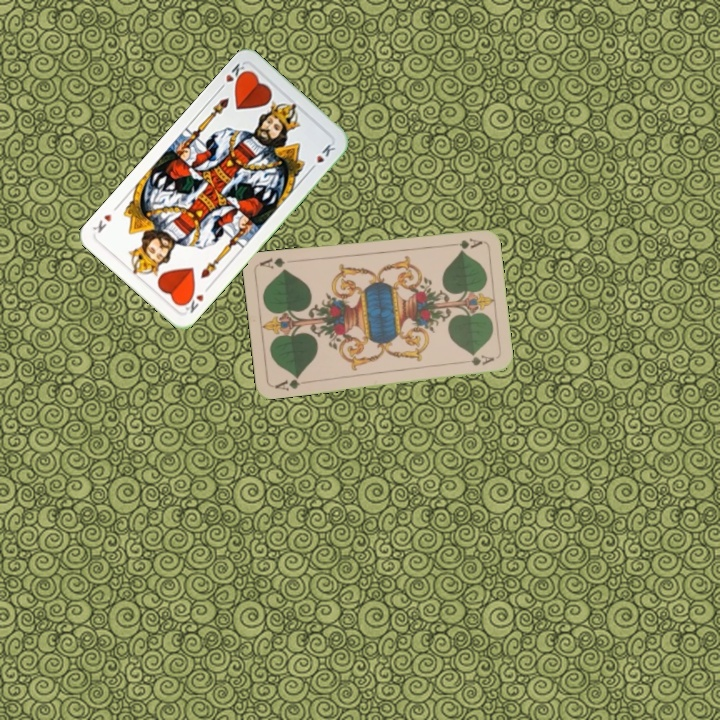GA: (271, 372, 310, 393), (444, 234, 485, 252)
HK: (215, 59, 251, 93), (179, 288, 206, 316)
